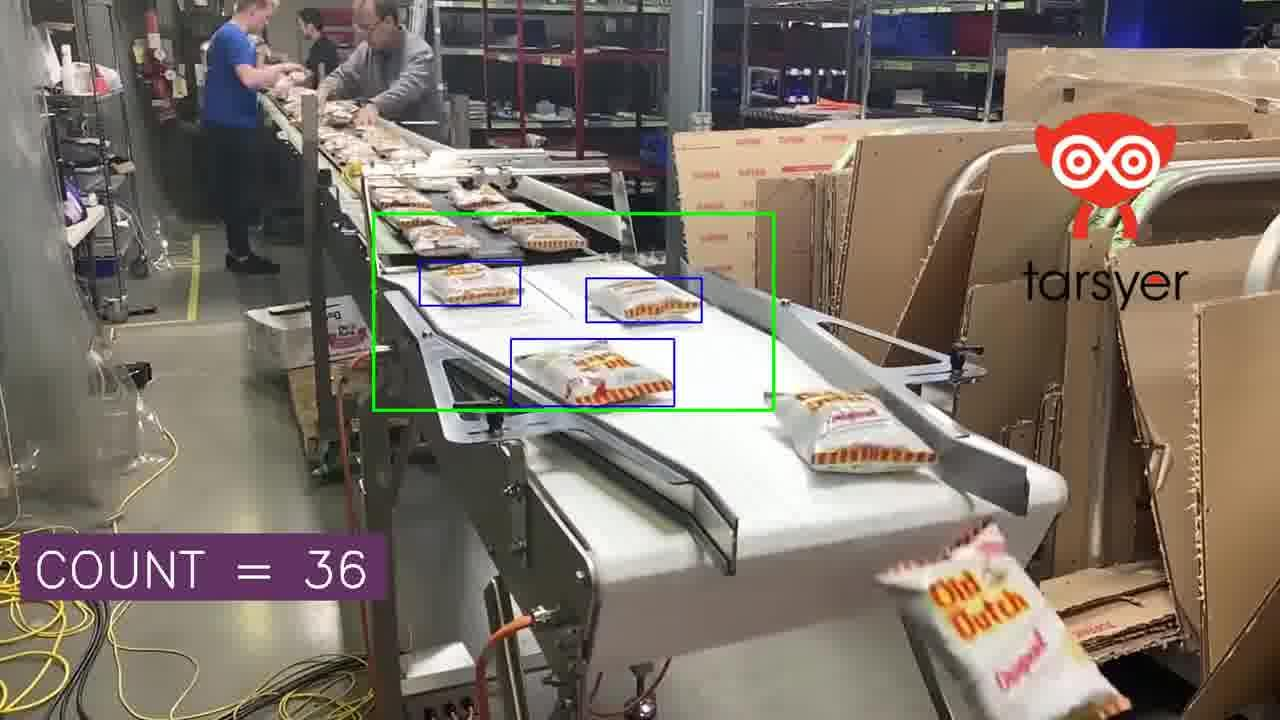Snack: (879, 524, 1129, 719), (776, 390, 936, 473), (517, 341, 673, 405), (588, 279, 701, 321), (426, 263, 520, 304), (404, 223, 479, 256), (507, 223, 589, 252), (480, 202, 549, 230), (382, 207, 455, 230), (370, 183, 431, 210), (449, 185, 507, 210), (398, 172, 460, 192), (321, 102, 357, 126), (378, 147, 428, 163)
